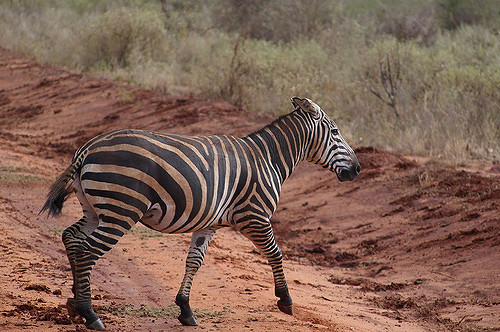zebra: (42, 98, 357, 328)
